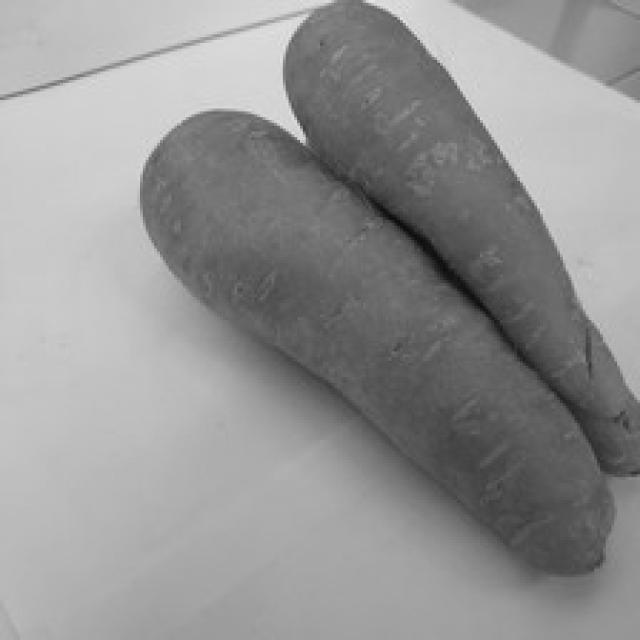Fresh_Carrot: (136, 113, 600, 564), (309, 20, 618, 418)
